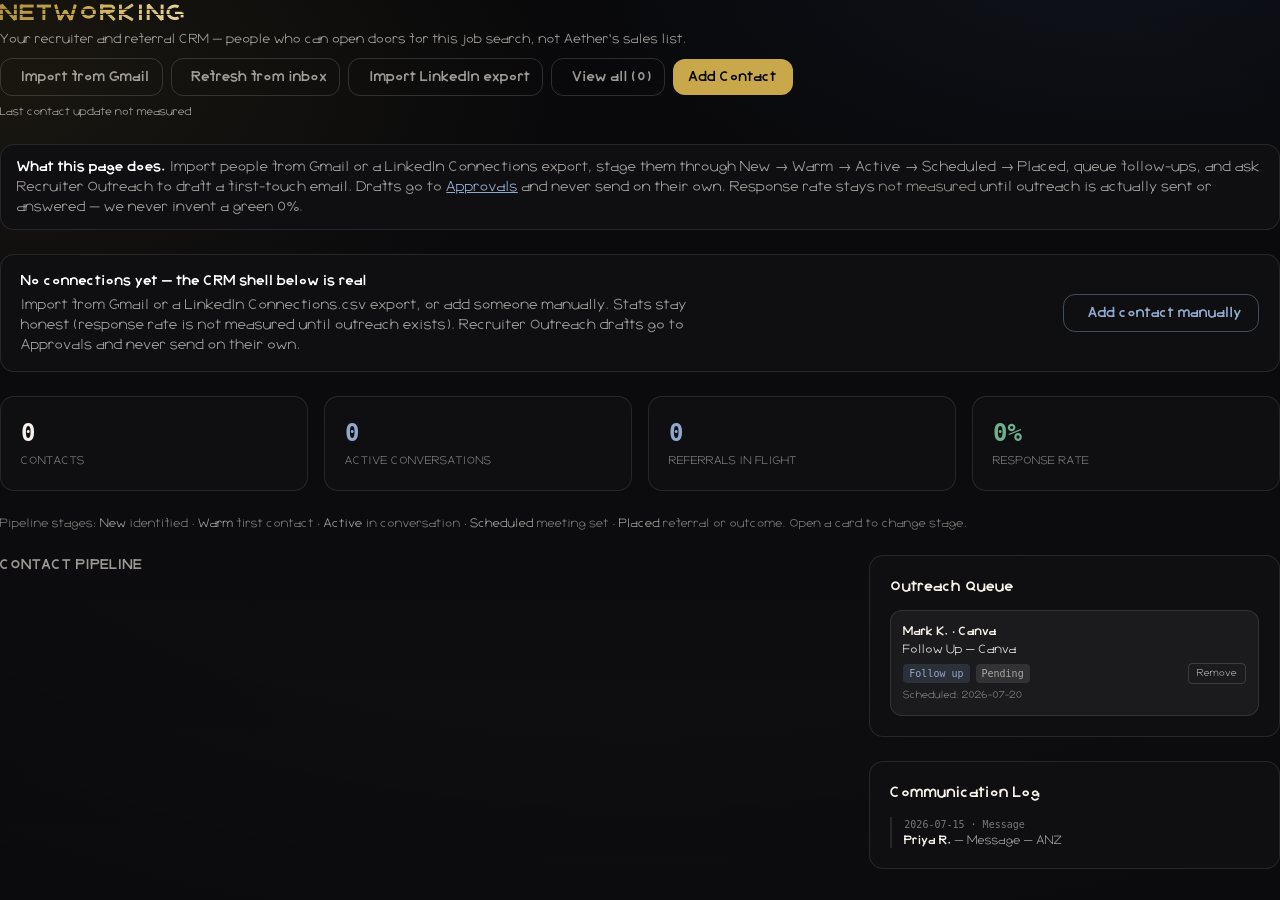
Test case: NetworkingPage — honest LinkedIn control (MV-networking-003, amended by W-NET-1) › the empty-state manual-add control opens the real Add Contact modal (matches what it actually does)
Expected: the element with test id "networking-empty-state" is shown, [0, 254, 1279, 372]
Click the button with test id "empty-state-add-contact-btn".
click(1161, 313)  # box [1063, 294, 1259, 332]
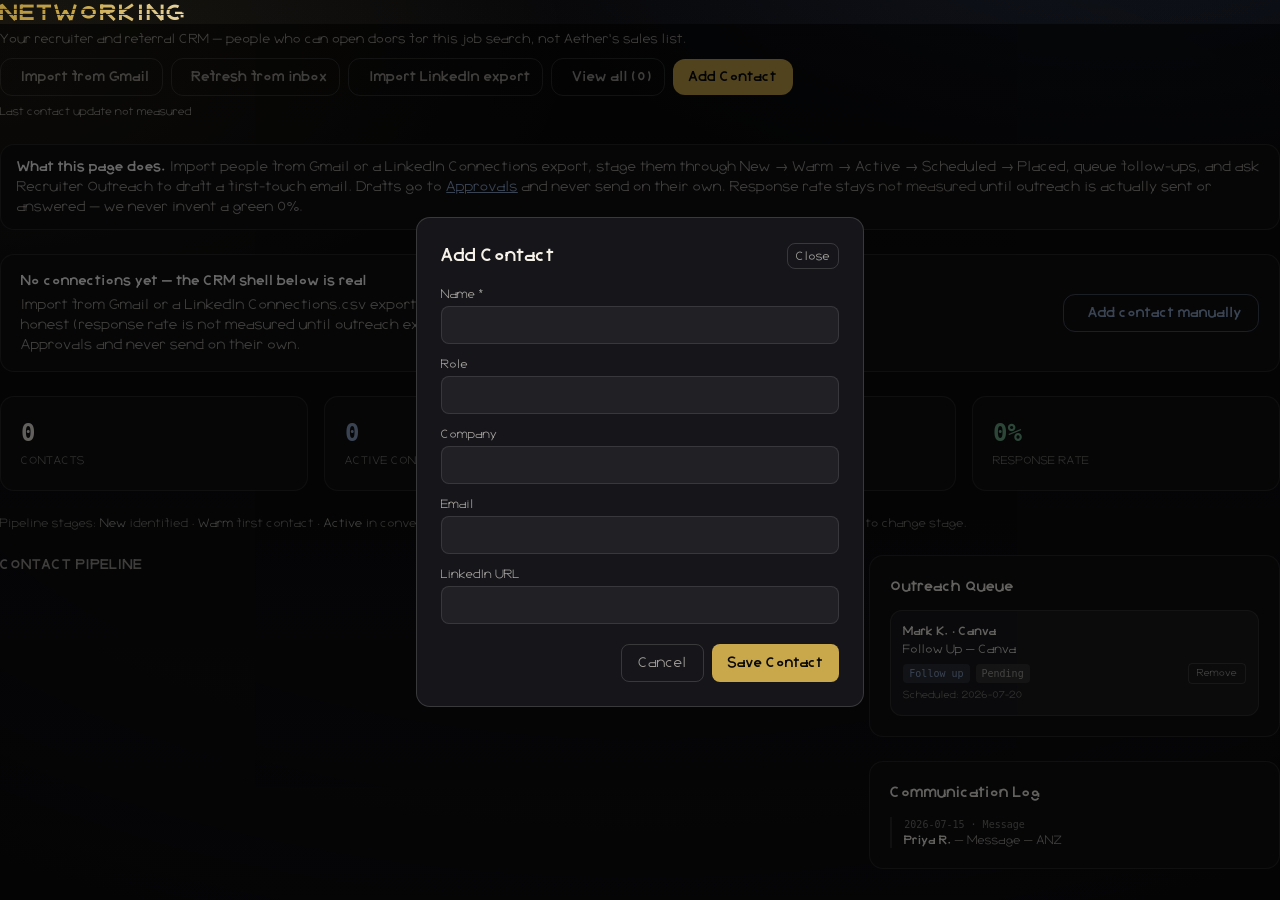
Expected: the element with test id "add-contact-modal" is shown, [416, 217, 864, 707]
